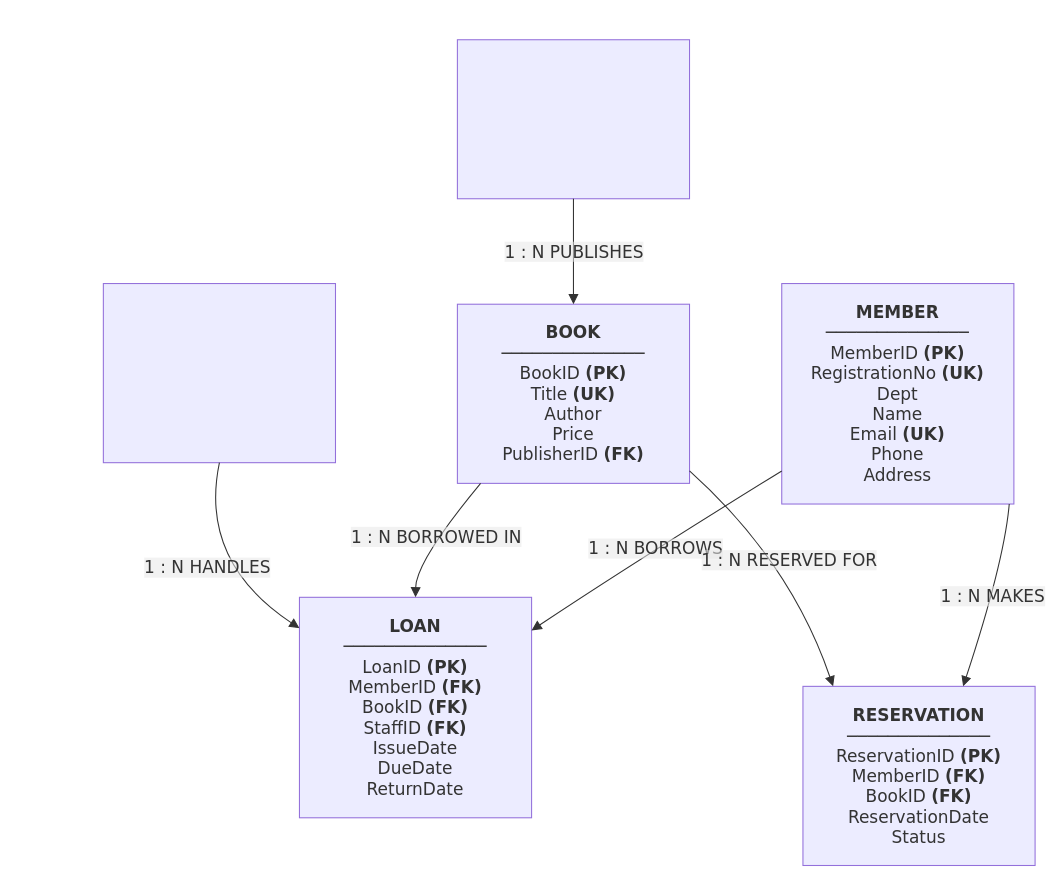
Some shapes in this 1063 by 884 pixel diagram are drawn without their labels. Each missing label, with the centre of its shape:
"PUBLISHER ────────────── PublisherID (PK) Name (UK) Address Phone (UK)" goes at (x=573, y=119).
"STAFF ────────────── StaffID (PK) Name Role Email (UK) Phone" goes at (x=218, y=372).
